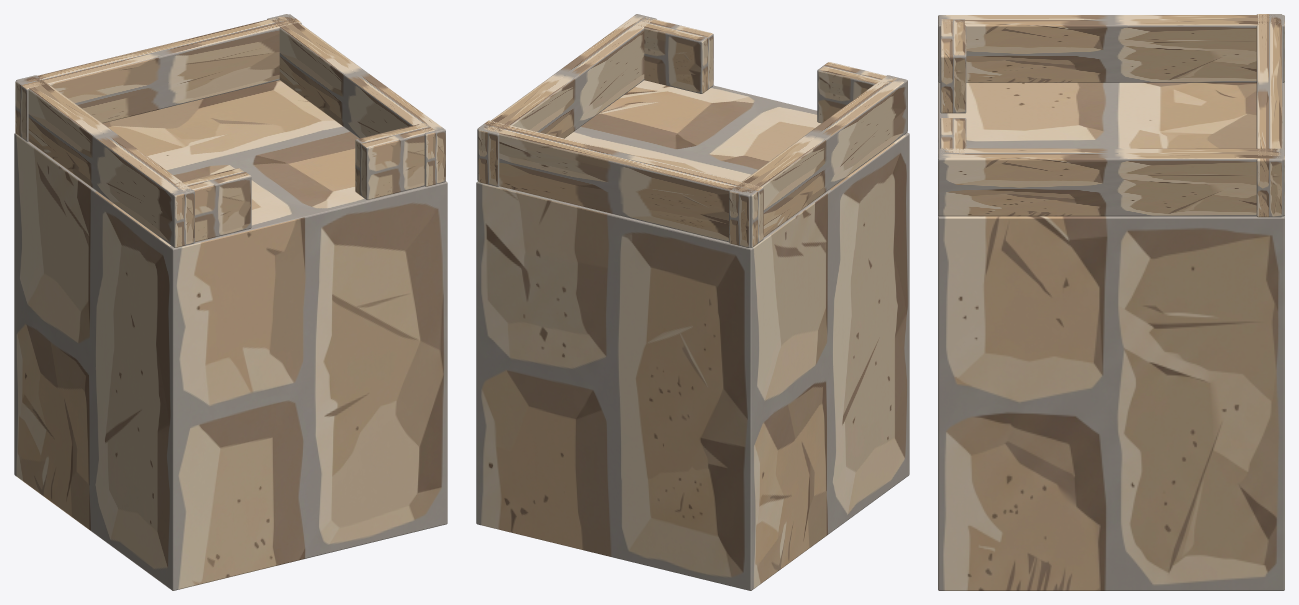
Rendered from fortress_square_tower_walkable_LOD1.glb.
3 renders of one model, left to right at view 1: azimuth 30°, elevation 25°; view 2: azimuth 150°, elevation 25°; view 3: azimuth 270°, elevation 25°, orthographic. The views are drawn at different scales.
Visible parts, largest first — view 1: LOD_Tower, LOD_North, LOD_West, LOD_East, LOD_SouthReturn.001, LOD_SouthReturn; view 2: LOD_Tower, LOD_North, LOD_West, LOD_East, LOD_SouthReturn.001, LOD_SouthReturn; view 3: LOD_Tower, LOD_East, LOD_West, LOD_North, LOD_SouthReturn, LOD_SouthReturn.001.
Boxes of the visible parts, box(x1,y1,x2,y2) form: LOD_Tower: box(14, 80, 447, 590); LOD_North: box(15, 14, 301, 141); LOD_West: box(16, 75, 194, 247); LOD_East: box(267, 14, 445, 186); LOD_SouthReturn.001: box(355, 123, 434, 199); LOD_SouthReturn: box(172, 168, 251, 242); LOD_Tower: box(476, 80, 909, 590); LOD_North: box(477, 120, 763, 247); LOD_West: box(729, 75, 907, 247); LOD_East: box(478, 14, 656, 186); LOD_SouthReturn.001: box(635, 17, 713, 93); LOD_SouthReturn: box(817, 62, 896, 123); LOD_Tower: box(938, 82, 1284, 590); LOD_East: box(938, 148, 1284, 216); LOD_West: box(938, 15, 1284, 82); LOD_North: box(1256, 14, 1282, 217); LOD_SouthReturn: box(940, 19, 966, 113); LOD_SouthReturn.001: box(940, 118, 966, 154).
Bounding box in the file's own units: 6.1 × 8.37 × 6.1.
1 material, 1 textured.
